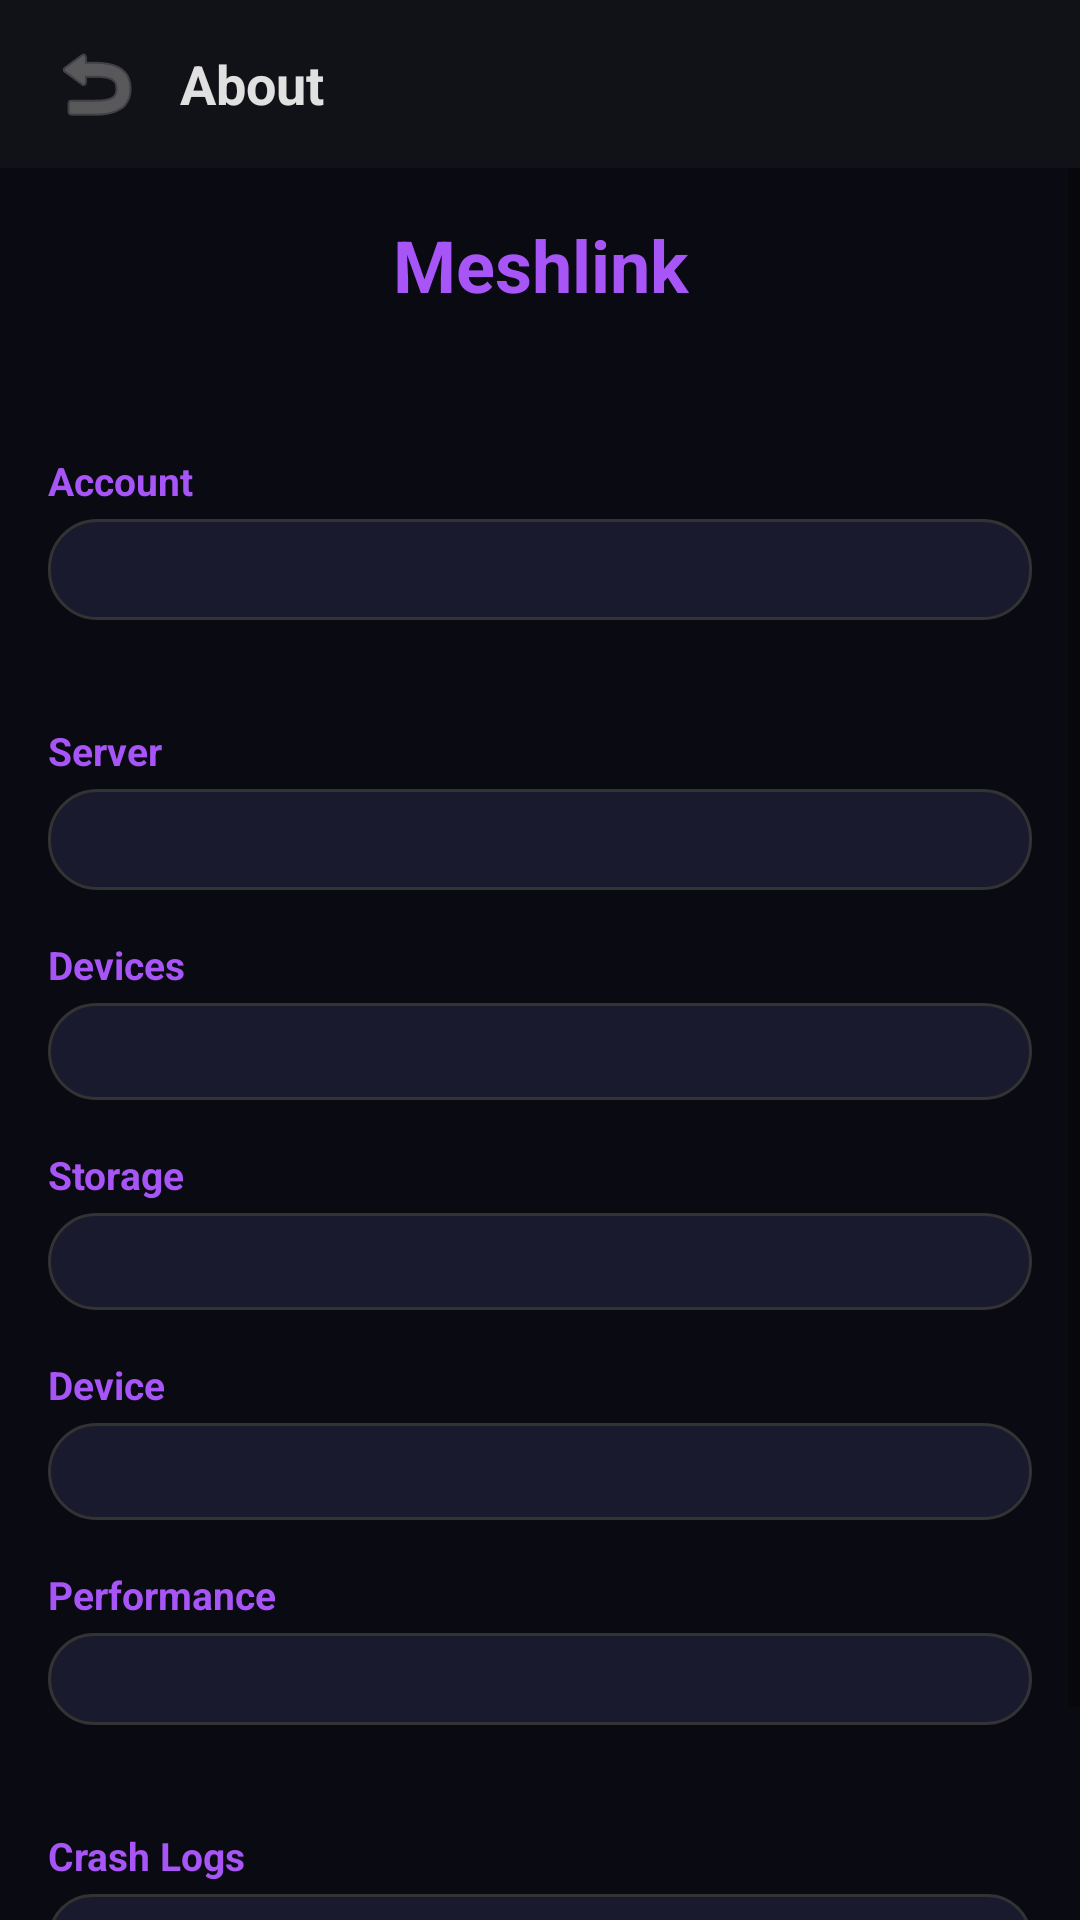

Icon bounding boxes for this 1080 x 1920 phone screenshot, format box=[x1, y1, x2, y2]:
Back: box=[63, 54, 132, 116]
